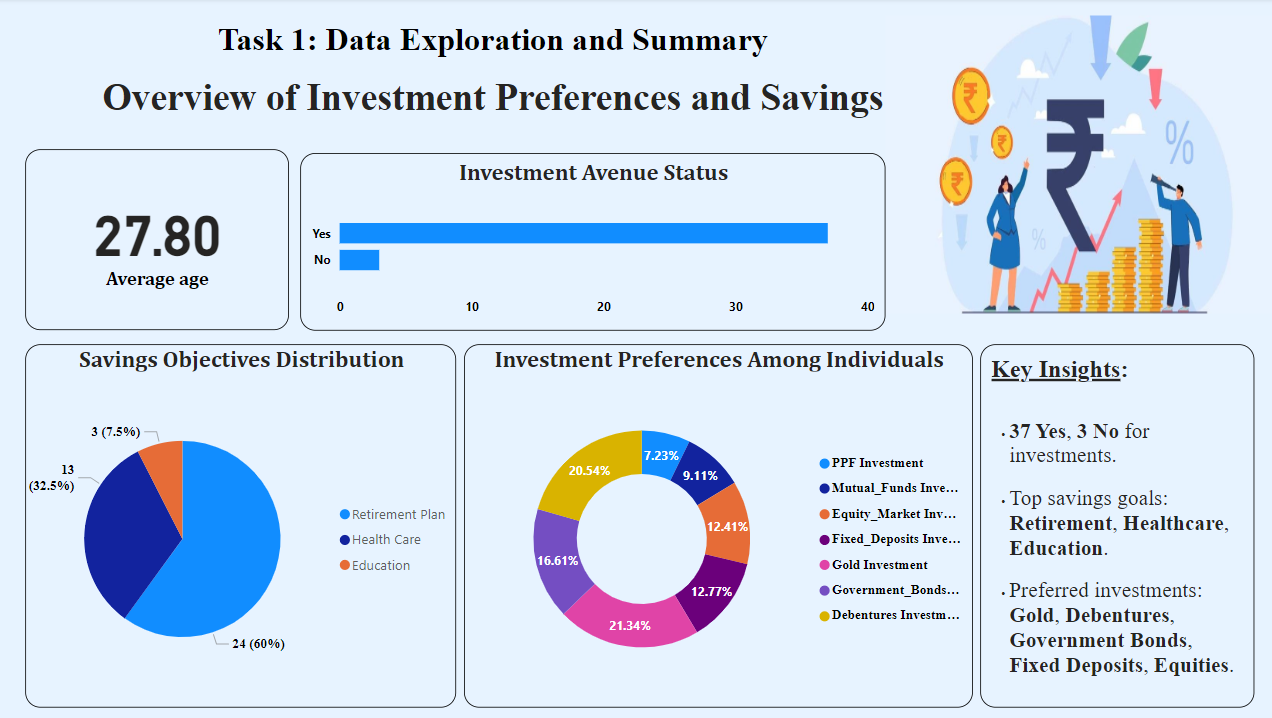

What the dashboard file says about the page in this screenshot:
{"tool":"powerbi","page":{"name":"Page 1","canvas":[1280,720],"ordinal":0},"visuals":[{"type":"card","fields":{"Values":["Data_set 2 (2).Average age"]},"box":[31.1,150.5,262.5,180.4],"z":0},{"type":"donutChart","title":"Investment Preferences Among Individuals","fields":{"Y":["Sum(Data_set 2 (2).PPF)","Sum(Data_set 2 (2).Mutual_Funds)","Sum(Data_set 2 (2).Equity_Market)","Sum(Data_set 2 (2).Fixed_Deposits)","Sum(Data_set 2 (2).Gold)","Sum(Data_set 2 (2).Government_Bonds)","Sum(Data_set 2 (2).Debentures)"]},"box":[549.8,344.6,707.8,362],"z":1000},{"type":"pieChart","title":"Savings Objectives Distribution","fields":{"Category":["Data_set 2 (2).What are your savings objectives?"],"Y":["CountNonNull(Data_set 2 (2).What are your savings objectives?)"]},"box":[31.1,344.6,506.3,362],"z":2000},{"type":"image","box":[886.6,17.1,393.4,296.5],"z":3000},{"type":"textbox","box":[31.1,17.4,930.5,116.9],"z":4000},{"type":"barChart","title":"Investment Avenue Status","fields":{"Category":["Data_set 2 (2).Investment_Avenues"],"Y":["CountNonNull(Data_set 2 (2).Investment_Avenues)"]},"box":[304.8,154.3,582.2,176.6],"z":5000}]}

Visuals, with their boxes in screenshot pixels (x1, y1, x2, y2), scaled from the page's 1280x720 canvas onto the 1272x718 screenshot:
card - Data_set 2 (2).Average age: <bbox>31, 150, 292, 330</bbox>
"Investment Preferences Among Individuals" donutChart: <bbox>546, 344, 1250, 705</bbox>
"Savings Objectives Distribution" pieChart: <bbox>31, 344, 534, 705</bbox>
image: <bbox>881, 17, 1271, 313</bbox>
textbox: <bbox>31, 17, 956, 134</bbox>
"Investment Avenue Status" barChart: <bbox>303, 154, 881, 330</bbox>
